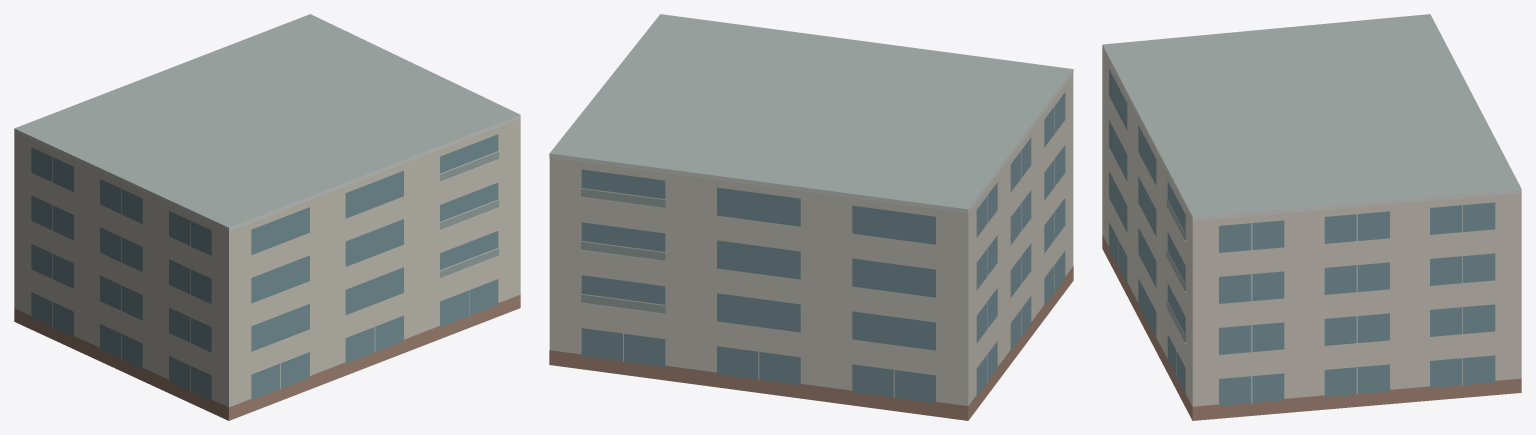
Rendered from survey-upis-32987086.glb.
The picture shows the model from 3 angles, left to right: view 1: azimuth 30°, elevation 25°; view 2: azimuth 150°, elevation 25°; view 3: azimuth 270°, elevation 25°; orthographic projection. The views are drawn at different scales.
Parts seen in each view (by area): view 1: survey-upis-32987086.tmp; view 2: survey-upis-32987086.tmp; view 3: survey-upis-32987086.tmp.
Part boxes in pixels (box(x1,y1,x2,y2)): survey-upis-32987086.tmp: box(14, 14, 520, 420); survey-upis-32987086.tmp: box(549, 14, 1073, 420); survey-upis-32987086.tmp: box(1102, 14, 1521, 420).
Size of the model in its own units: 26.03 by 12.2 by 22.74.
